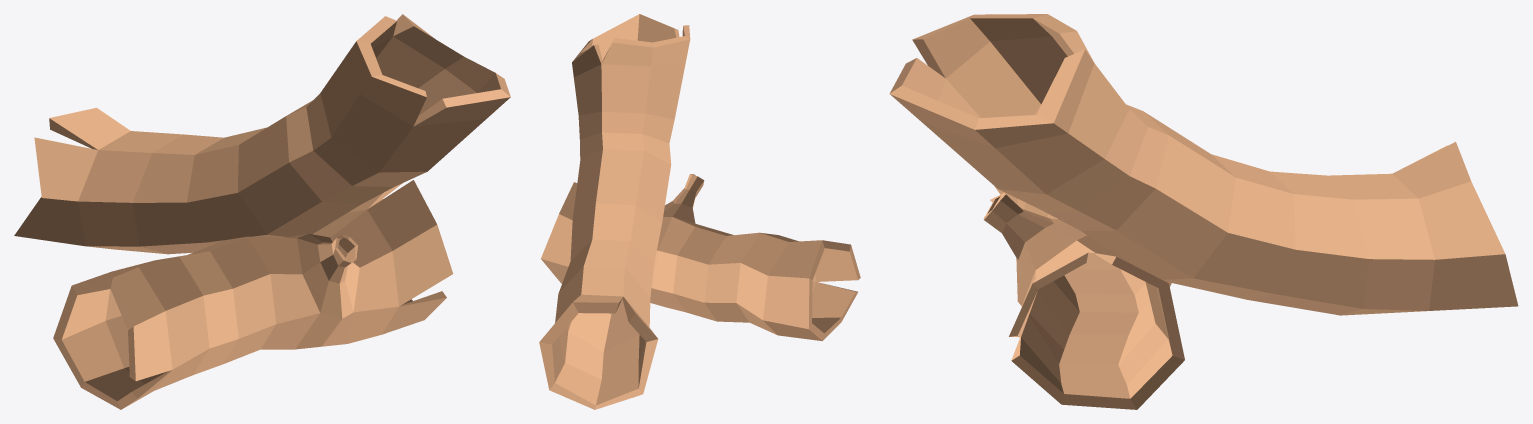
Rendered from TroncTube.FBX.
3 views of the same model, side by side, from view 1: azimuth 30°, elevation 25°; view 2: azimuth 150°, elevation 25°; view 3: azimuth 270°, elevation 25° (orthographic). The views are drawn at different scales.
Visible parts, largest first — view 1: Cylinder; view 2: Cylinder; view 3: Cylinder.
Boxes of the visible parts, bbox=[...] form: Cylinder: bbox=[14, 14, 510, 409]; Cylinder: bbox=[539, 14, 860, 409]; Cylinder: bbox=[889, 14, 1518, 409].
Size of the model in its own units: 51.21 by 41.17 by 65.12.
